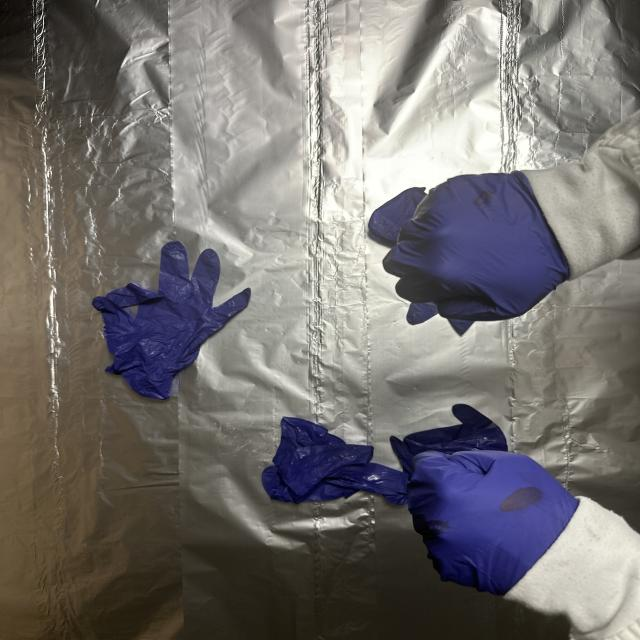gloves_contaminated: (383, 172, 569, 321), (408, 452, 578, 595)
